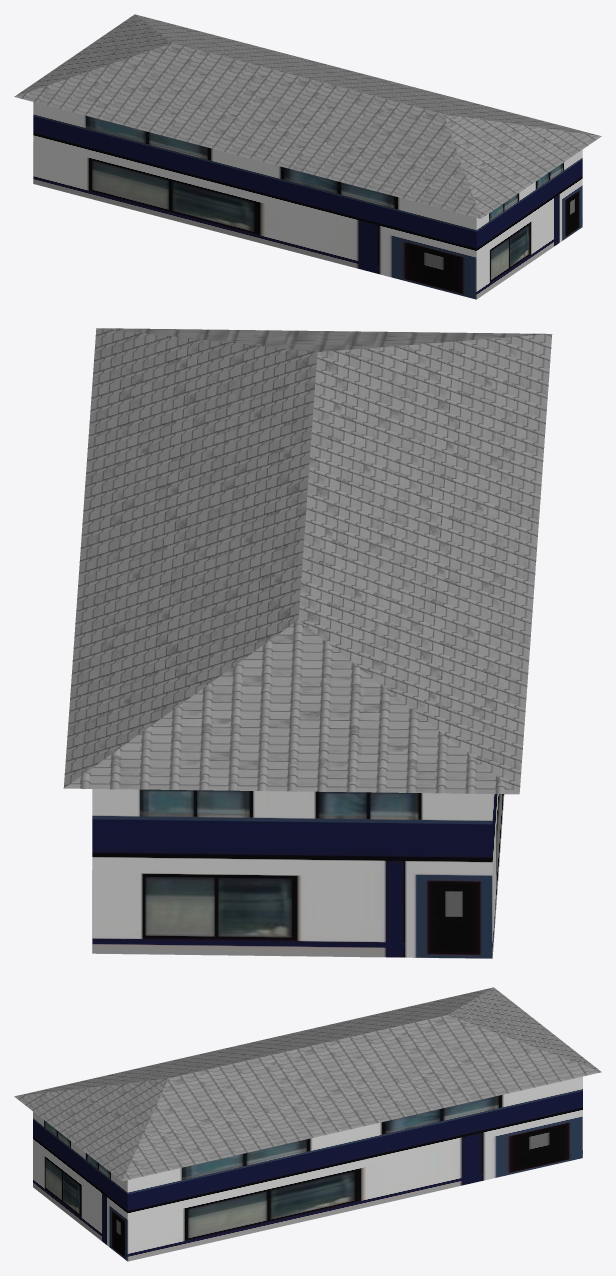
The picture shows the model from 3 angles, top to bottom: view 1: azimuth 30°, elevation 25°; view 2: azimuth 150°, elevation 25°; view 3: azimuth 270°, elevation 25°; orthographic projection. The views are drawn at different scales.
Parts seen in each view (by area): view 1: CityEngineMaterial_4_m, CityEngineMaterial_2_m; view 2: CityEngineMaterial_4_m, CityEngineMaterial_2_m; view 3: CityEngineMaterial_4_m, CityEngineMaterial_2_m.
Part boxes in pixels (x1,y1,x2,y2): CityEngineMaterial_4_m: (14, 14, 601, 218); CityEngineMaterial_2_m: (33, 102, 582, 299); CityEngineMaterial_4_m: (63, 328, 552, 794); CityEngineMaterial_2_m: (92, 789, 504, 958); CityEngineMaterial_4_m: (14, 987, 601, 1181); CityEngineMaterial_2_m: (33, 1076, 582, 1261).
Size of the model in its own units: 30.97 by 9.37 by 39.67.
